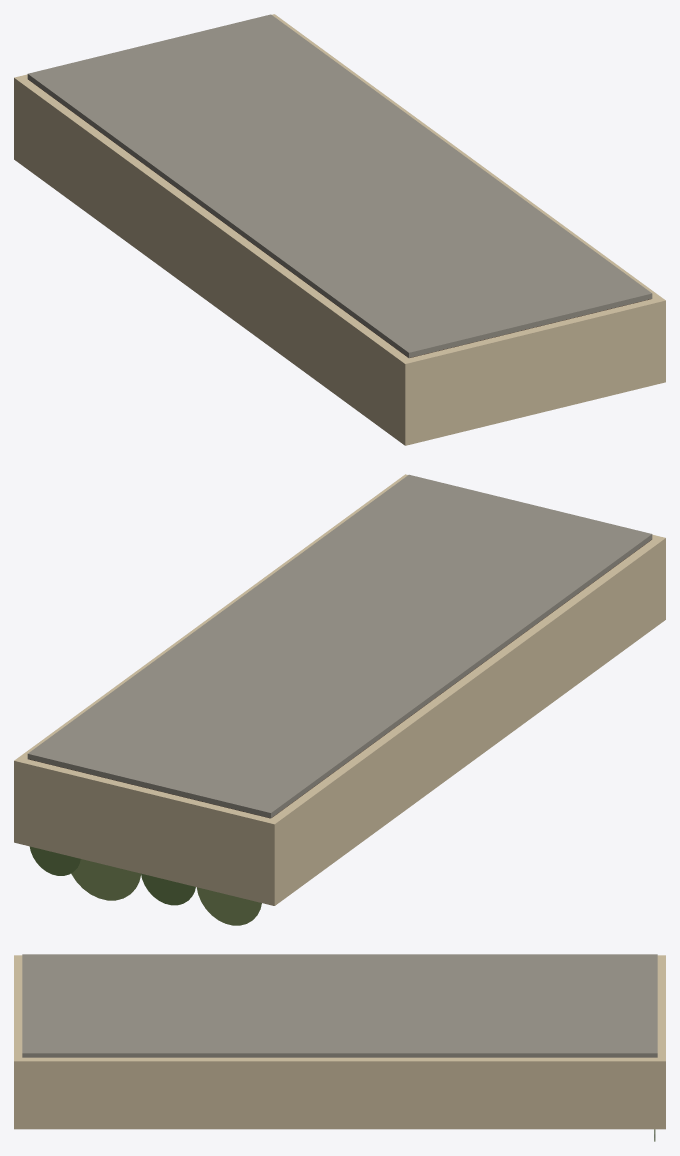
File: estande.glb
3 renders of one model, top to bottom at view 1: azimuth 30°, elevation 25°; view 2: azimuth 150°, elevation 25°; view 3: azimuth 270°, elevation 25°, orthographic. The views are drawn at different scales.
Visible parts, largest first — view 1: map_concrete_d.001, map_gw_up.001; view 2: map_concrete_d.001, map_gw_up.001, map_bd_hill.001, map_bd_hill2.001; view 3: map_concrete_d.001, map_gw_up.001.
Boxes of the visible parts, bbox=[...] form: map_concrete_d.001: bbox=[27, 14, 652, 358]; map_gw_up.001: bbox=[14, 14, 665, 445]; map_concrete_d.001: bbox=[27, 474, 652, 818]; map_gw_up.001: bbox=[14, 474, 665, 905]; map_bd_hill.001: bbox=[71, 859, 261, 925]; map_bd_hill2.001: bbox=[29, 846, 195, 905]; map_concrete_d.001: bbox=[22, 954, 657, 1057]; map_gw_up.001: bbox=[14, 955, 665, 1129].
Size of the model in its own units: 30 by 14.17 by 78.
